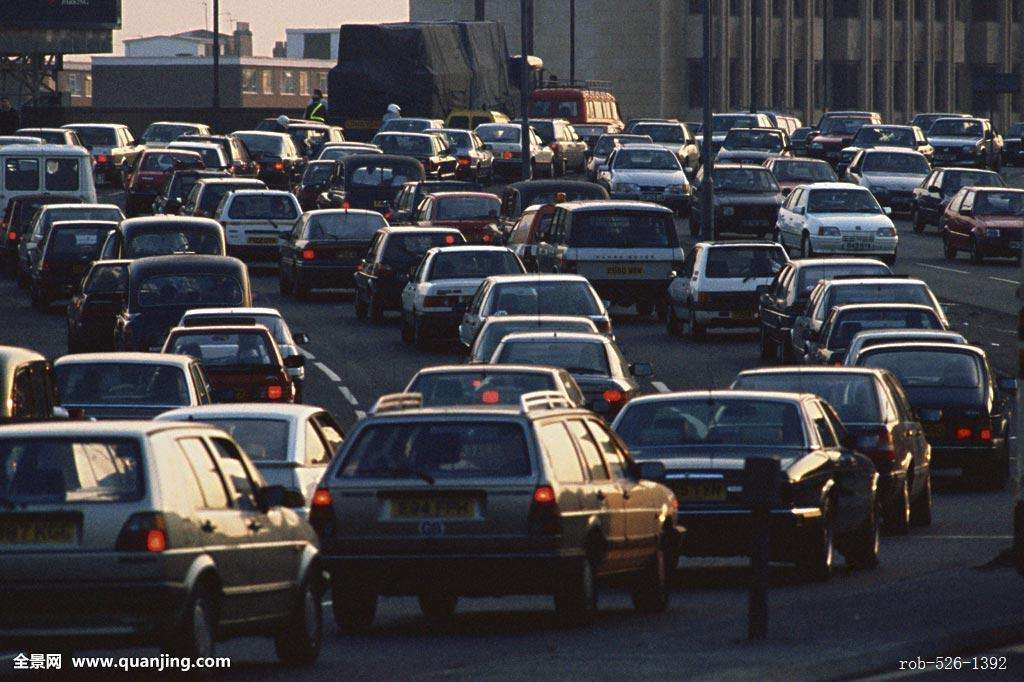car: (1, 421, 322, 682), (307, 405, 678, 624), (595, 390, 883, 575), (394, 245, 535, 344), (773, 184, 899, 266), (276, 208, 398, 291)
microbus: (1, 143, 98, 247)
suv: (544, 201, 684, 320), (525, 75, 625, 156)
truck: (325, 19, 557, 151)
